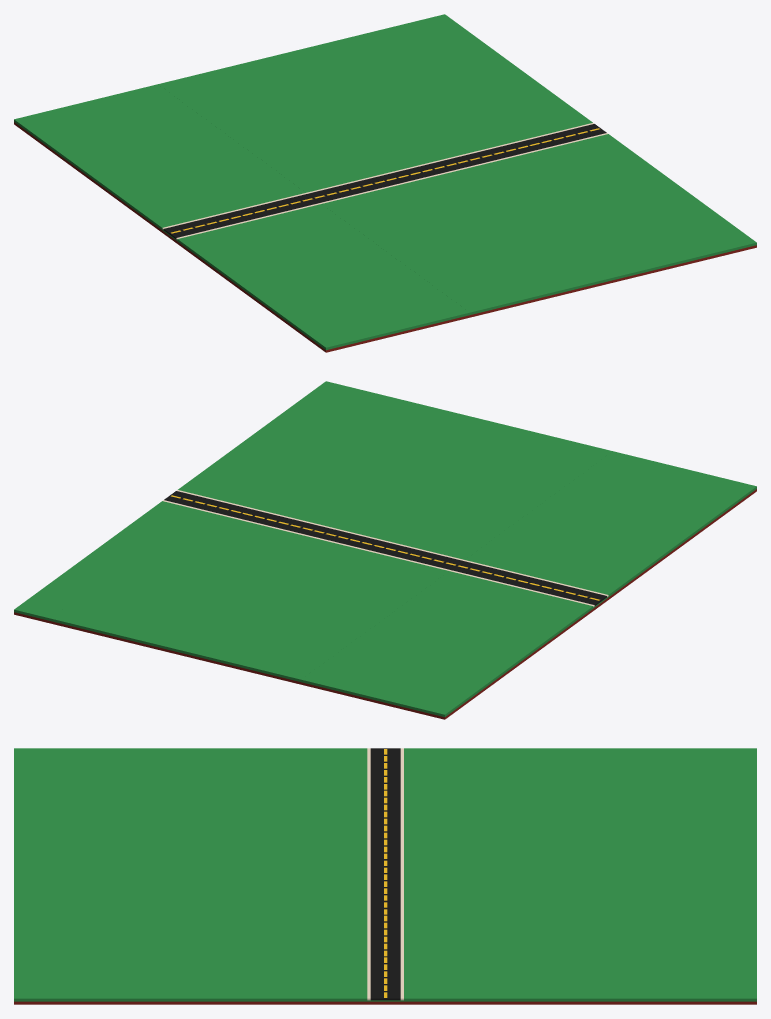
The model's file is world.glb.
3 renders of one model, top to bottom at view 1: azimuth 30°, elevation 25°; view 2: azimuth 150°, elevation 25°; view 3: azimuth 270°, elevation 25°, orthographic. The views are drawn at different scales.
Visible parts, largest first — view 1: Grass01.001, Grass01.002, Grass01.003; view 2: Grass01.001, Grass01.002, Grass01.003; view 3: Grass01.003, Grass01.001, Grass01.002.
Boxes of the visible parts, x1=… form: Grass01.001: x1=14, y1=84, x2=469, y2=352; Grass01.002: x1=158, y1=49, x2=613, y2=317; Grass01.003: x1=302, y1=14, x2=756, y2=282; Grass01.001: x1=301, y1=451, x2=756, y2=719; Grass01.002: x1=157, y1=416, x2=612, y2=684; Grass01.003: x1=14, y1=381, x2=468, y2=649; Grass01.003: x1=14, y1=915, x2=756, y2=1004; Grass01.001: x1=14, y1=748, x2=756, y2=831; Grass01.002: x1=14, y1=832, x2=756, y2=915.
Size of the model in its own units: 35.8 by 0.4 by 44.9.
Materials: 36 (36 with a texture image).
